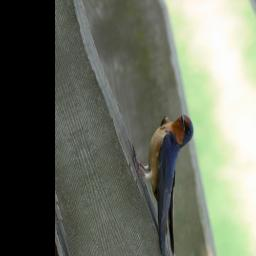Swallow: (122, 103, 234, 256)
